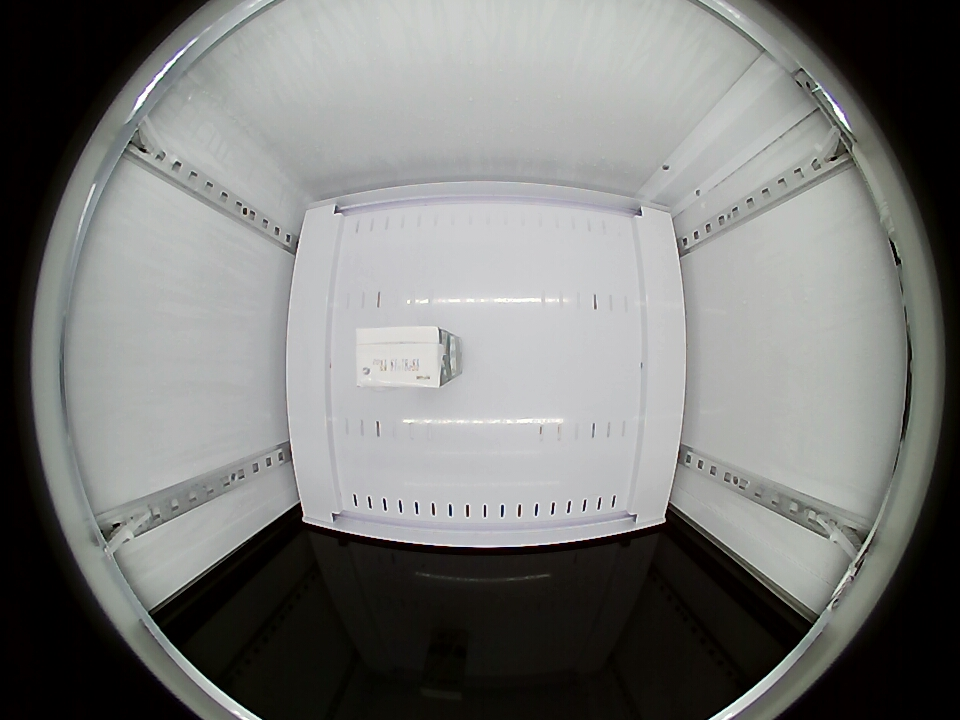jindian: (355, 325, 456, 389)
